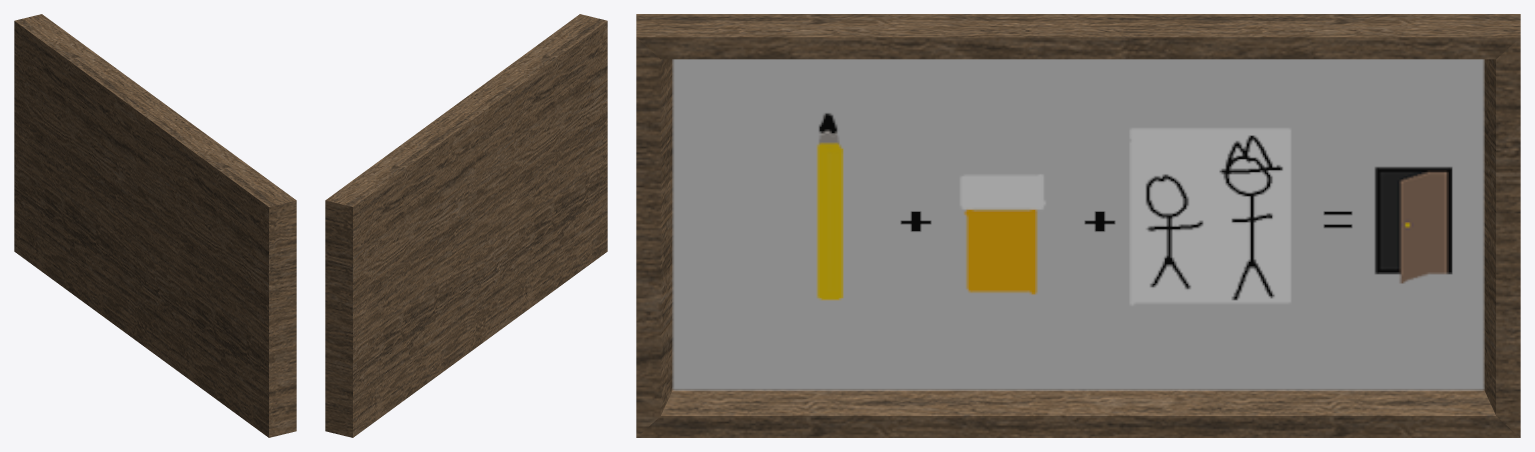
Rendered from Messy Room Sign.fbx.
The picture shows the model from 3 angles, left to right: view 1: azimuth 30°, elevation 25°; view 2: azimuth 150°, elevation 25°; view 3: azimuth 270°, elevation 25°; orthographic projection. The views are drawn at different scales.
Visible parts, largest first — view 1: Cube; view 2: Cube; view 3: Cube.
Boxes of the visible parts, box(x1,y1,x2,y2) form: Cube: box(14, 14, 296, 437); Cube: box(325, 14, 607, 437); Cube: box(636, 14, 1520, 437).
Bounding box in the file's own units: 25.06 × 200 × 400.
1 material, 1 textured.
